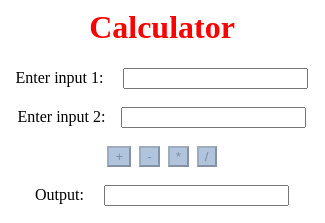
Scenario: Calculator test › should render the result when existing input is changed
This screenshot has width=325, height=223.
Type "10" into the number field labelled "Enter input 1:" at [216, 78], box [124,68,308,89]
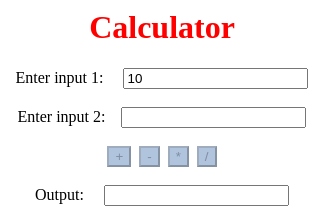
Type "2" into the number field labelled "Enter input 2:" at [214, 117], box [122,107,306,128]
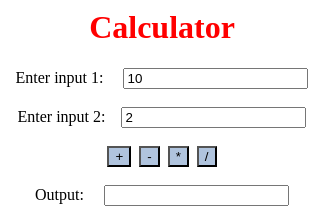
Click the button "*" at [178, 156], box [168,146,189,167]
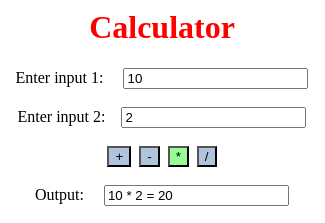
expect the field labelled "Output:" holds "10 * 2 = 20": met, box [104,185,289,206]
Replace the text in the number field labelled "Enter input 2:" with "4" at [214, 117], box [122,107,306,128]
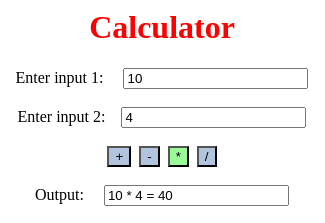
expect the field labelled "Output:" holds "10 * 4 = 40": met, box [104,185,289,206]
